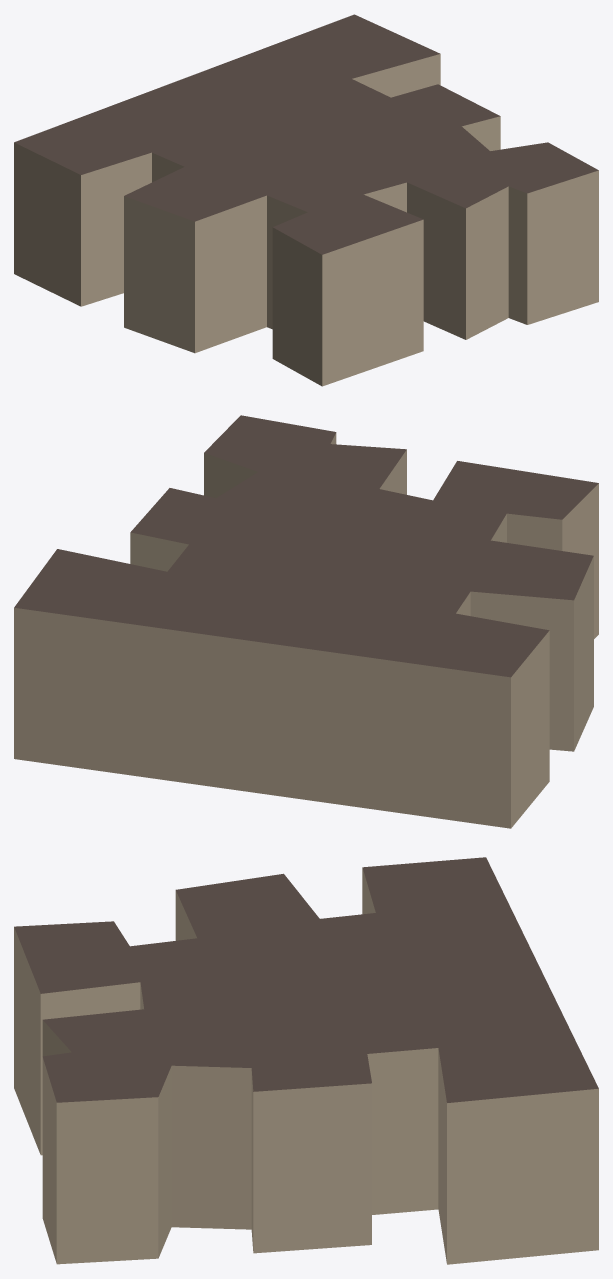
3 renders of one model, top to bottom at view 1: azimuth 30°, elevation 25°; view 2: azimuth 150°, elevation 25°; view 3: azimuth 270°, elevation 25°, orthographic. The views are drawn at different scales.
Parts seen in each view (by area): view 1: HP-w1516161909; view 2: HP-w1516161909; view 3: HP-w1516161909.
Part boxes in pixels (box(x1,y1,x2,y2)): HP-w1516161909: box(14, 14, 598, 386); HP-w1516161909: box(14, 415, 598, 828); HP-w1516161909: box(14, 857, 598, 1264).
Size of the model in its own units: 29.39 by 9 by 29.54.
